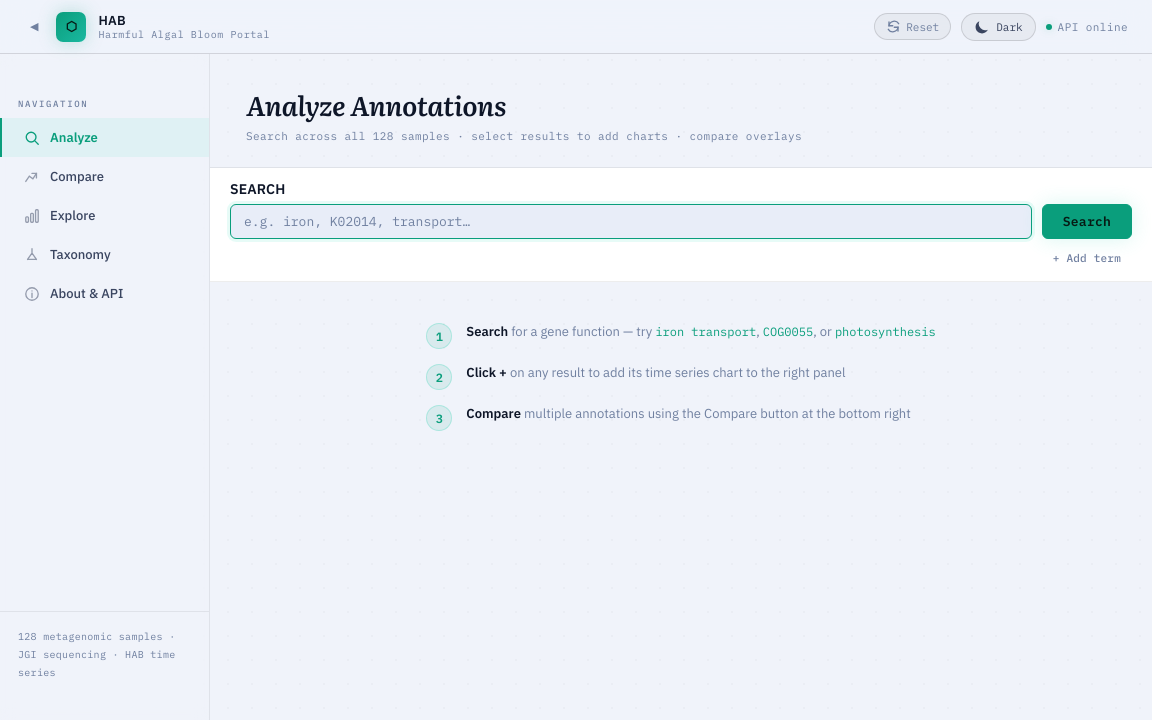
Test: App shell › navigates to Compare page
Step 1. Click the text "Compare" below "Navigation" → (77, 176), box [50,168,104,185]
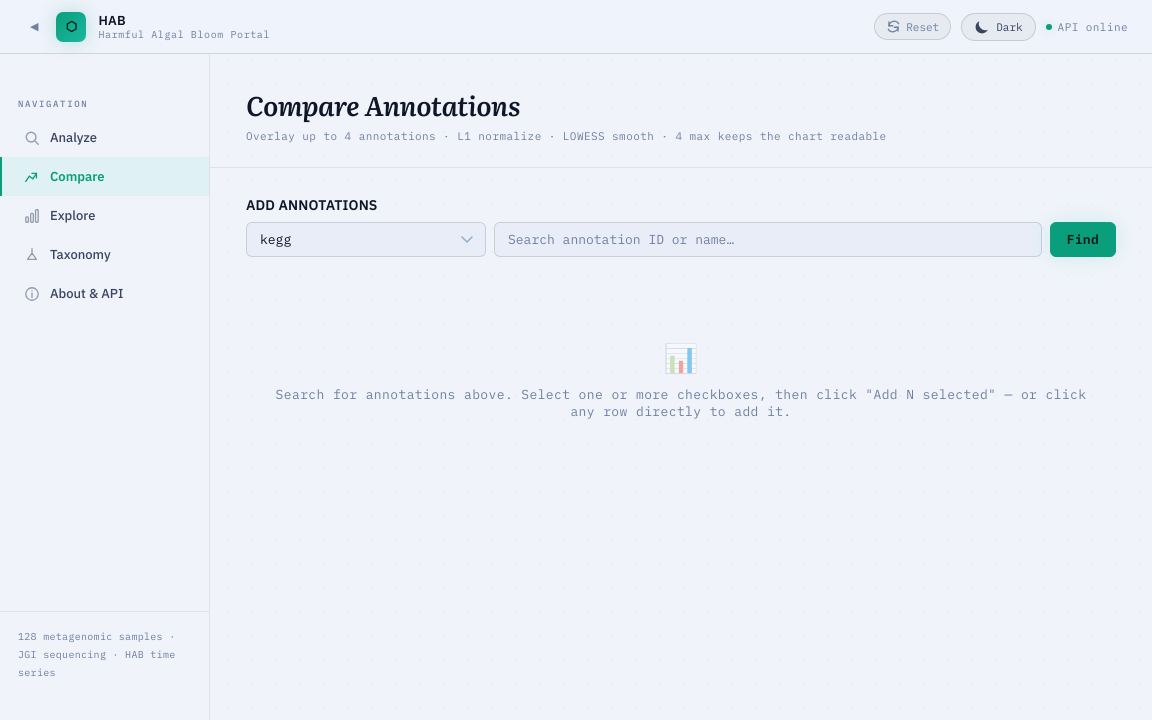
Expected: the heading "Compare Annotations" is shown, [246,84,520,124]
